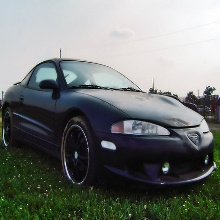no damage: (1, 57, 218, 189)
